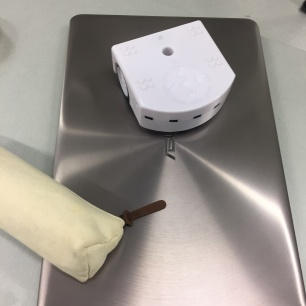thymio: (101, 17, 237, 138)
